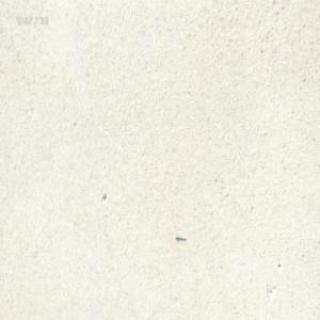Nailtrack_idkeyframe: (174, 233, 186, 241)
